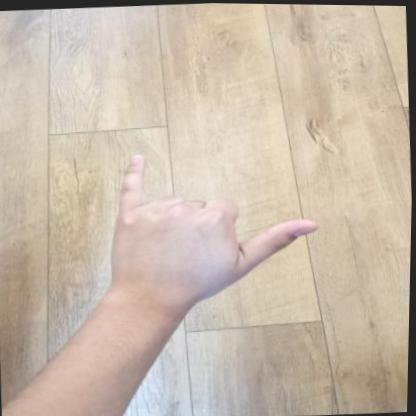Y: (101, 137, 334, 318)
